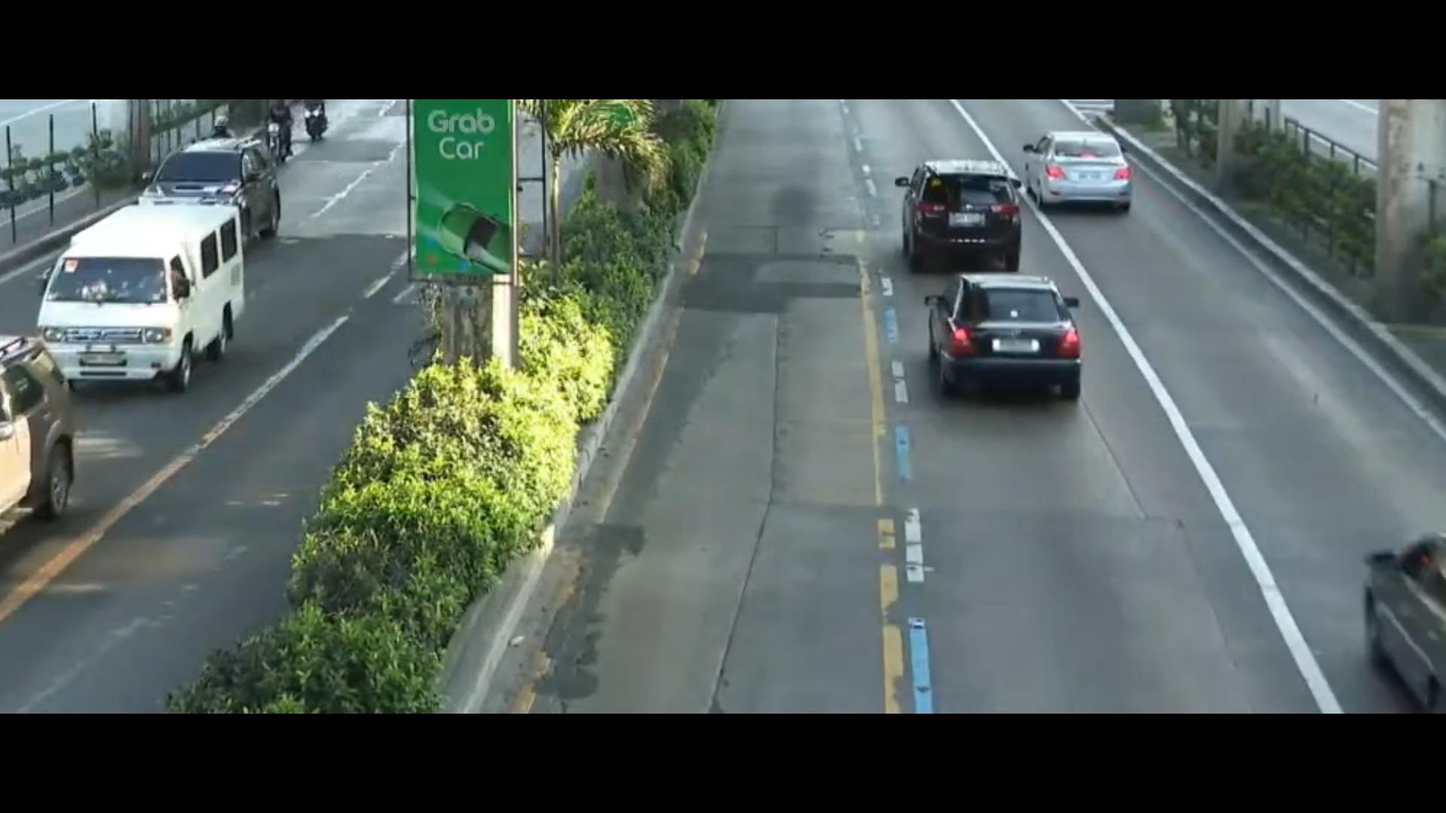Motorcycle: (252, 101, 300, 167), (302, 96, 334, 147)
Multicab: (29, 201, 274, 406)
SUV: (871, 149, 1025, 286), (0, 317, 71, 557), (133, 131, 287, 230)
Sedan: (897, 265, 1118, 424), (1021, 113, 1133, 228)
